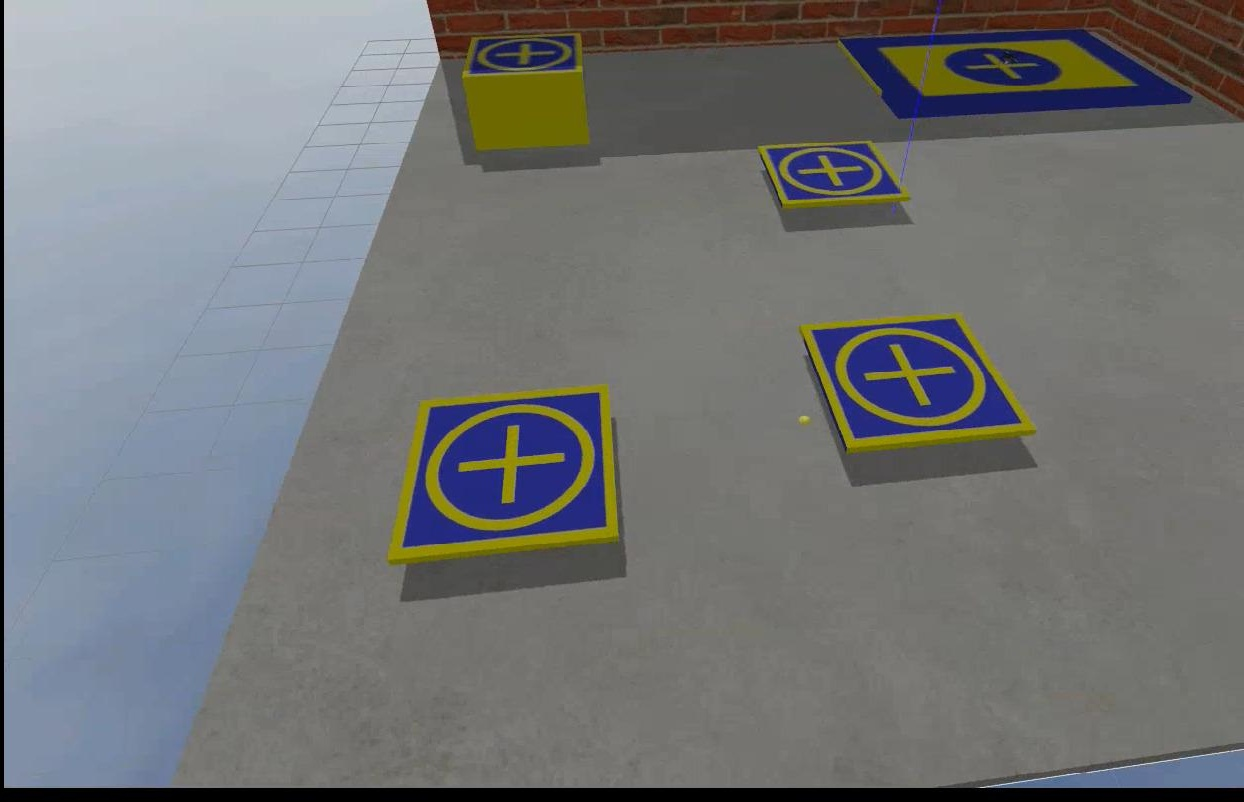large_base: (835, 27, 1190, 122)
small_base: (381, 382, 620, 566), (798, 310, 1037, 455), (755, 139, 905, 214), (462, 30, 584, 82)
